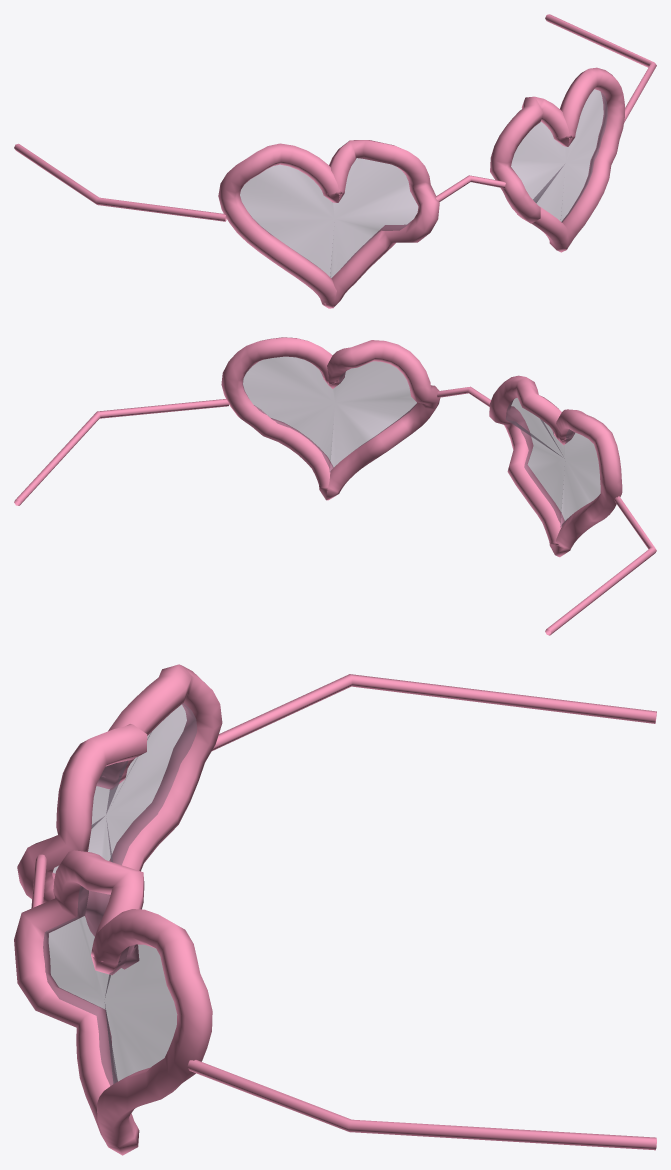
File: restart_glasses_heart_pig.glb
3 renders of one model, top to bottom at view 1: azimuth 30°, elevation 25°; view 2: azimuth 150°, elevation 25°; view 3: azimuth 270°, elevation 25°, orthographic. The views are drawn at different scales.
Parts seen in each view (by area): view 1: Lente ahumada.008, Montura.012, Montura.013, Lente ahumada.009, Patilla curva.012, Patilla curva.013, Puente nasal.006; view 2: Lente ahumada.009, Montura.013, Montura.012, Lente ahumada.008, Patilla curva.013, Patilla curva.012; view 3: Montura.013, Montura.012, Lente ahumada.009, Lente ahumada.008, Patilla curva.013, Patilla curva.012.
Part boxes in pixels (bbox=[...]): Lente ahumada.008: bbox=[240, 158, 418, 277]; Montura.012: bbox=[218, 140, 439, 308]; Montura.013: bbox=[490, 67, 624, 252]; Lente ahumada.009: bbox=[511, 89, 607, 222]; Patilla curva.012: bbox=[14, 143, 226, 221]; Patilla curva.013: bbox=[545, 14, 656, 122]; Puente nasal.006: bbox=[436, 175, 505, 201]; Lente ahumada.009: bbox=[242, 356, 416, 471]; Montura.013: bbox=[221, 337, 440, 500]; Montura.012: bbox=[489, 375, 622, 557]; Lente ahumada.008: bbox=[506, 398, 600, 527]; Patilla curva.013: bbox=[14, 399, 229, 505]; Patilla curva.012: bbox=[545, 496, 656, 635]; Montura.013: bbox=[14, 850, 212, 1155]; Montura.012: bbox=[17, 664, 222, 969]; Lente ahumada.009: bbox=[43, 886, 177, 1085]; Lente ahumada.008: bbox=[53, 703, 196, 873]; Patilla curva.013: bbox=[187, 1060, 656, 1150]; Patilla curva.012: bbox=[212, 674, 656, 750].
Bounding box in the file's own units: 0.8374 × 0.2319 × 0.505.
